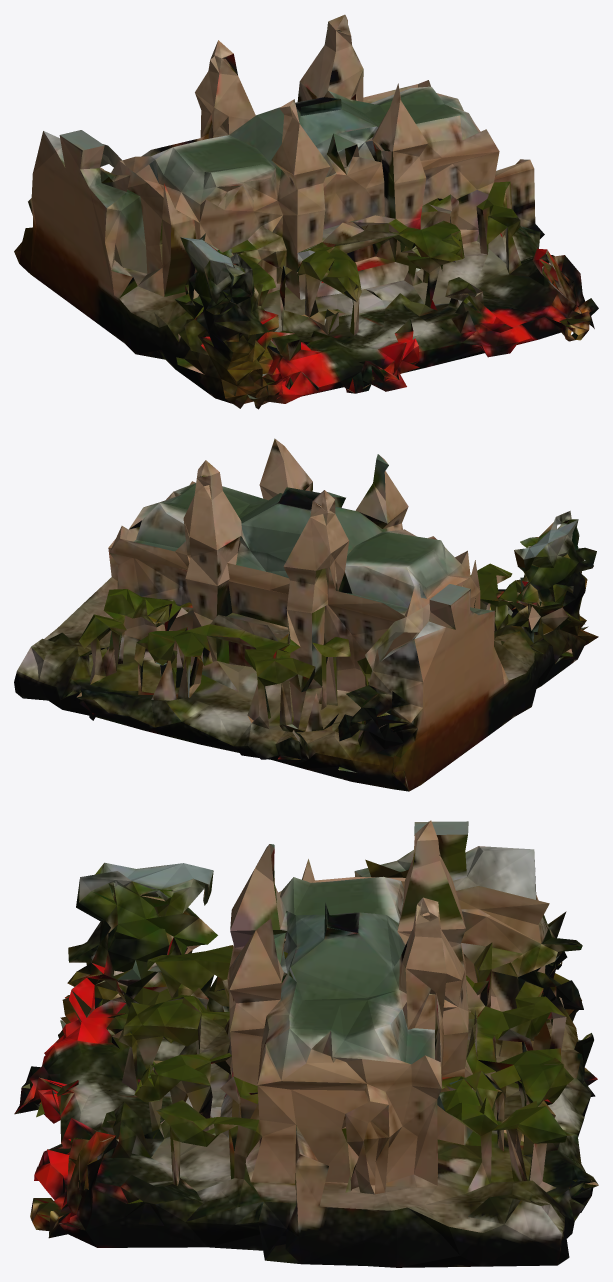
Rendered from casino_montecarlo.glb.
The picture shows the model from 3 angles, top to bottom: view 1: azimuth 30°, elevation 25°; view 2: azimuth 150°, elevation 25°; view 3: azimuth 270°, elevation 25°; orthographic projection. The views are drawn at different scales.
Visible parts, largest first — view 1: tmpr3sknv9y.ply; view 2: tmpr3sknv9y.ply; view 3: tmpr3sknv9y.ply.
Part boxes in pixels (x1,y1,x2,y2): tmpr3sknv9y.ply: (14,14,598,409); tmpr3sknv9y.ply: (14,438,598,791); tmpr3sknv9y.ply: (14,820,598,1267).
Bounding box in the file's own units: 1.98 × 1.07 × 1.95.
1 material, 1 textured.
